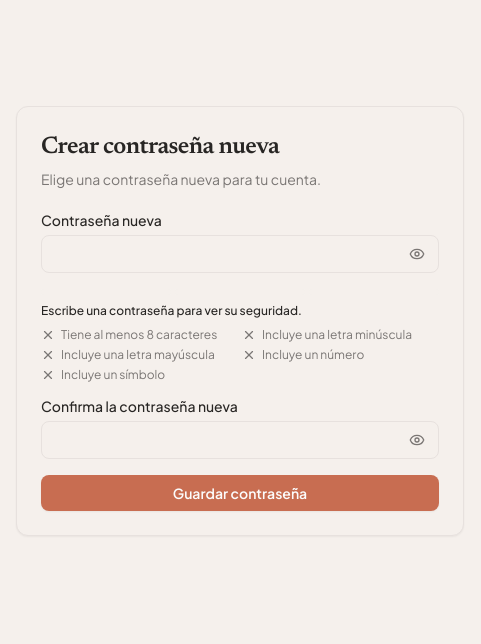
Test case: PasswordResetPage › KAN-37 / KAN-132: set a new password › AS-1: masks both passwords before the request is sent
Type "Emulator-Only-123!" into the password field labelled "Contraseña nueva" at (240, 254), box left=41, top=235, right=439, bottom=273
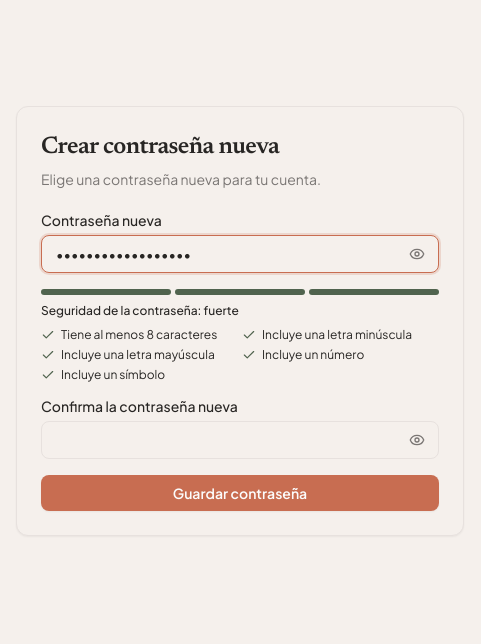
Type "Emulator-Only-123!" into the password field labelled "Confirma la contraseña nueva" at (240, 440), box left=41, top=421, right=439, bottom=459
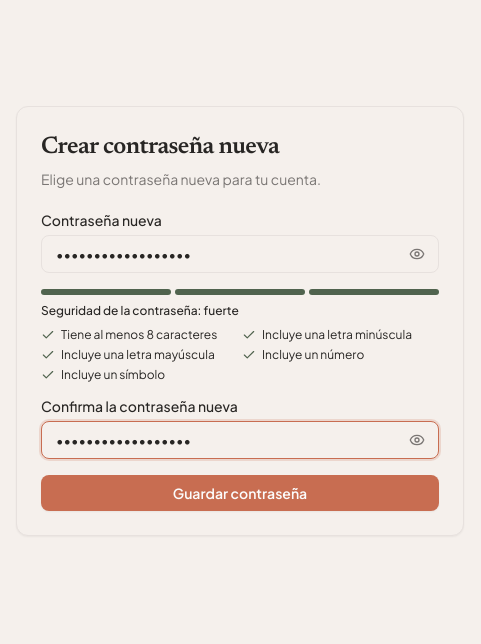
Click the 1st button named "Mostrar contraseña" at (417, 254), box left=399, top=236, right=435, bottom=272
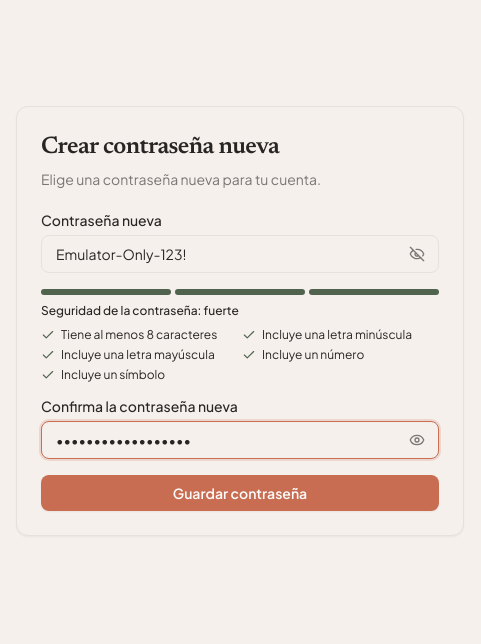
Click the button named "Mostrar contraseña" at (417, 440), box left=399, top=422, right=435, bottom=458
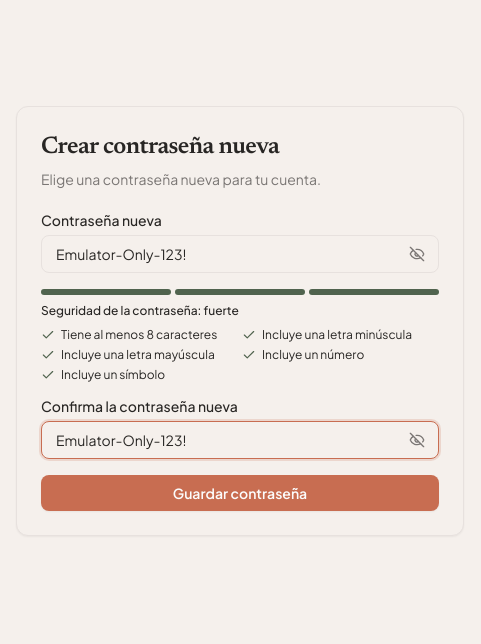
Now the field labelled "Contraseña nueva" shows its text, box left=41, top=235, right=439, bottom=273
Click the button "Guardar contraseña" at (240, 493), box left=41, top=475, right=439, bottom=511
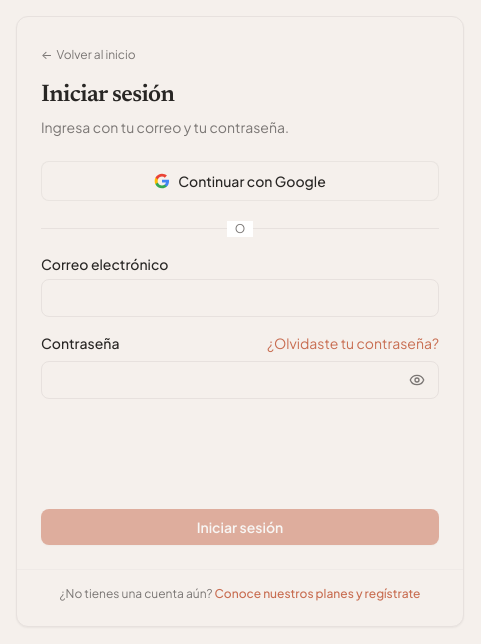
Now the heading "Iniciar sesión" is shown, box left=41, top=82, right=174, bottom=106
